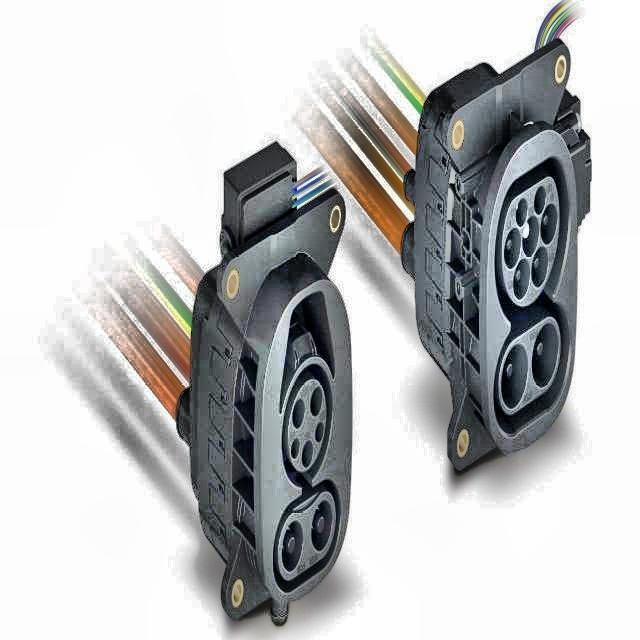inlet: (502, 177, 560, 306)
inlet-above-left: (516, 198, 528, 227)
inlet-above-right: (534, 186, 546, 216)
inlet-below-left: (513, 258, 530, 300)
inlet-below-right: (532, 247, 548, 288)
inlet-center: (522, 215, 539, 258)
inlet-center-left: (504, 227, 521, 270)
inlet-center-right: (540, 203, 557, 246)
